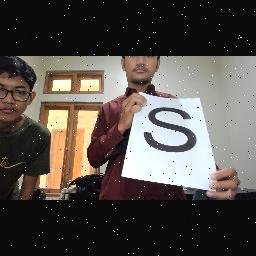s: (142, 103, 200, 161)
